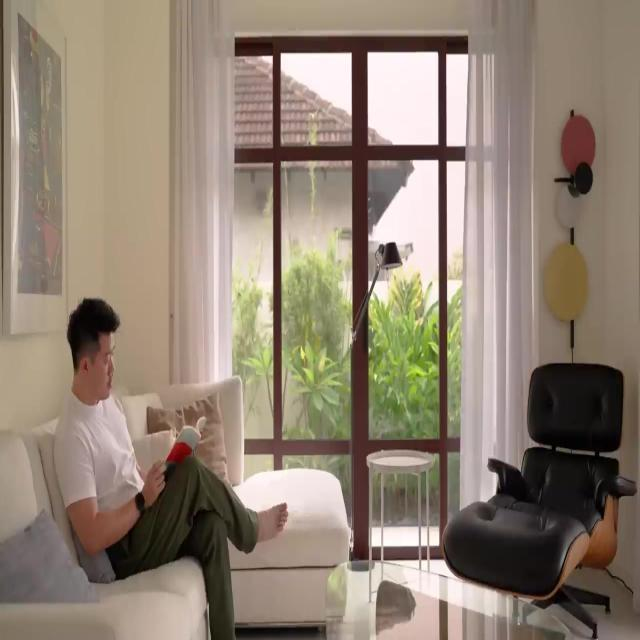door: (232, 34, 468, 562)
obstacle: (0, 373, 346, 640), (441, 361, 637, 639), (365, 448, 435, 602)
person: (53, 296, 289, 639)
